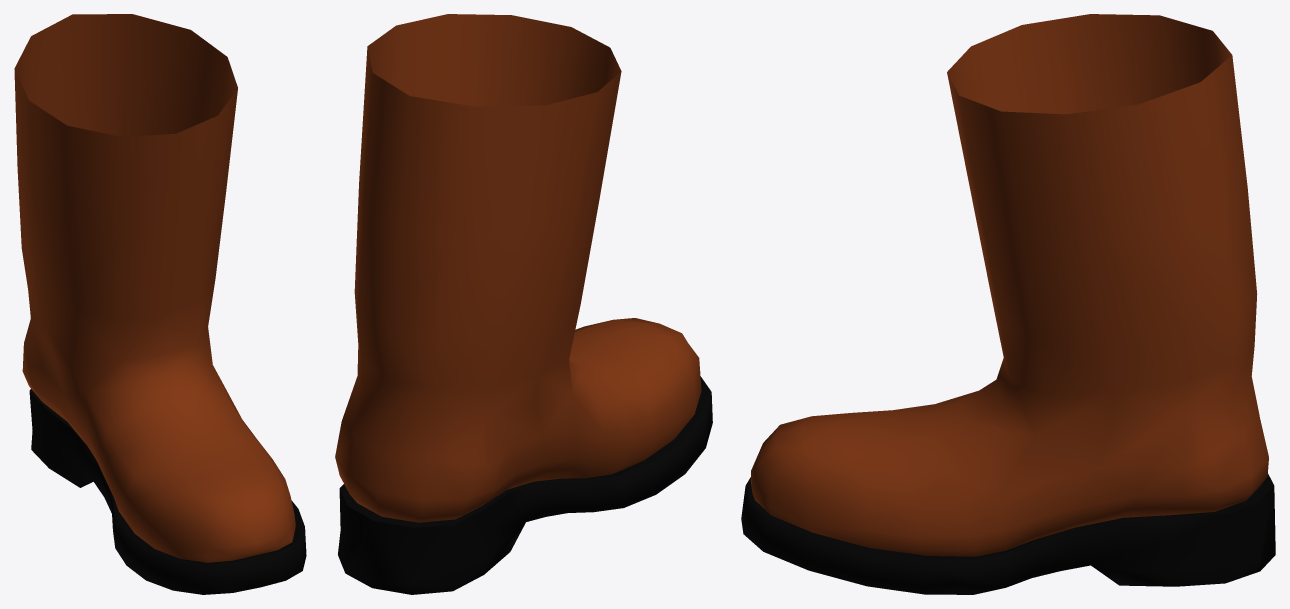
Rendered from boots.fbx.
3 views of the same model, side by side, from view 1: azimuth 30°, elevation 25°; view 2: azimuth 150°, elevation 25°; view 3: azimuth 270°, elevation 25° (orthographic). The views are drawn at different scales.
Visible parts, largest first — view 1: Group1, Group2; view 2: Group1, Group2; view 3: Group1, Group2.
Part boxes in pixels (x1,y1,x2,y2): Group1: (14, 14, 295, 562); Group2: (29, 389, 306, 594); Group1: (335, 14, 701, 522); Group2: (338, 376, 712, 594); Group1: (750, 14, 1268, 556); Group2: (741, 473, 1275, 594).
Size of the model in its own units: 5.45 by 11.94 by 11.56.
